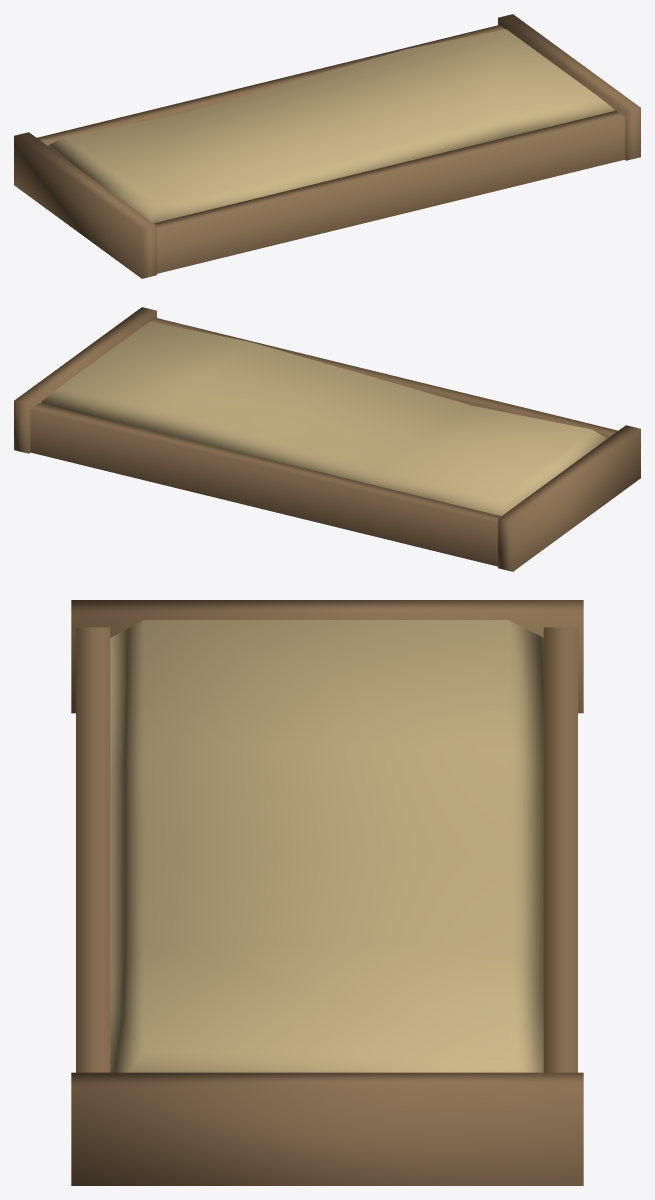
Rendered from rpgpp_ag_bed_02a.fbx.
3 views of the same model, one above another, from view 1: azimuth 30°, elevation 25°; view 2: azimuth 150°, elevation 25°; view 3: azimuth 270°, elevation 25° (orthographic). The views are drawn at different scales.
Parts seen in each view (by area): view 1: rpgpp_ag_bed_02a; view 2: rpgpp_ag_bed_02a; view 3: rpgpp_ag_bed_02a.
Part boxes in pixels (x1=…): rpgpp_ag_bed_02a: x1=14, y1=14, x2=640, y2=278; rpgpp_ag_bed_02a: x1=14, y1=307, x2=640, y2=571; rpgpp_ag_bed_02a: x1=71, y1=600, x2=583, y2=1185.
Bounding box in the file's own units: 2.58 × 0.2886 × 1.15.
